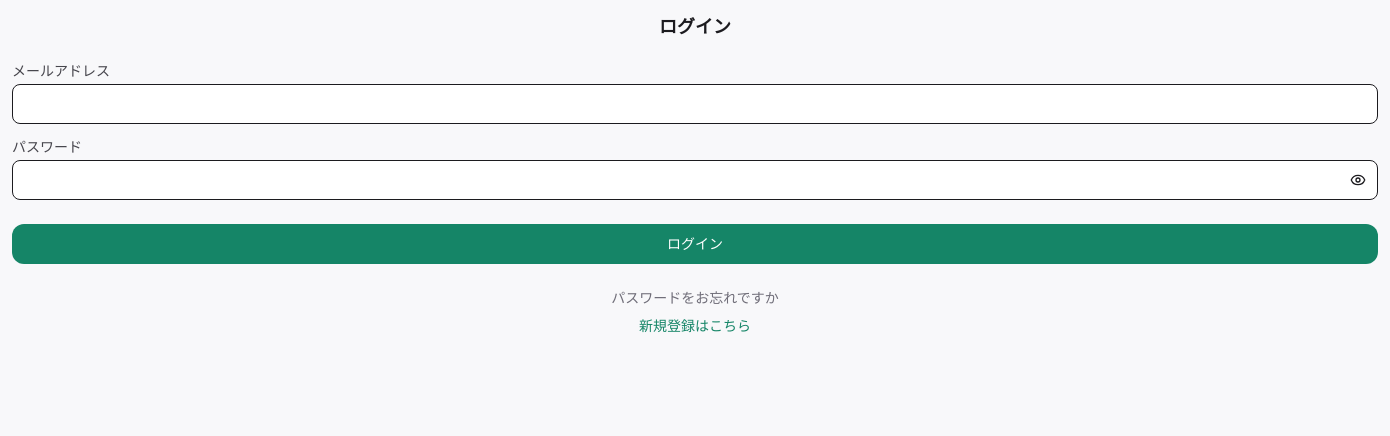
LoginPage › shows the backend's generic credential error without exposing which field is wrong
This screenshot has width=1390, height=436.
Type "satsuki@example.com" into the field labelled "メールアドレス".
click(695, 104); type("satsuki@example.com")  # box [12,84,1378,124]
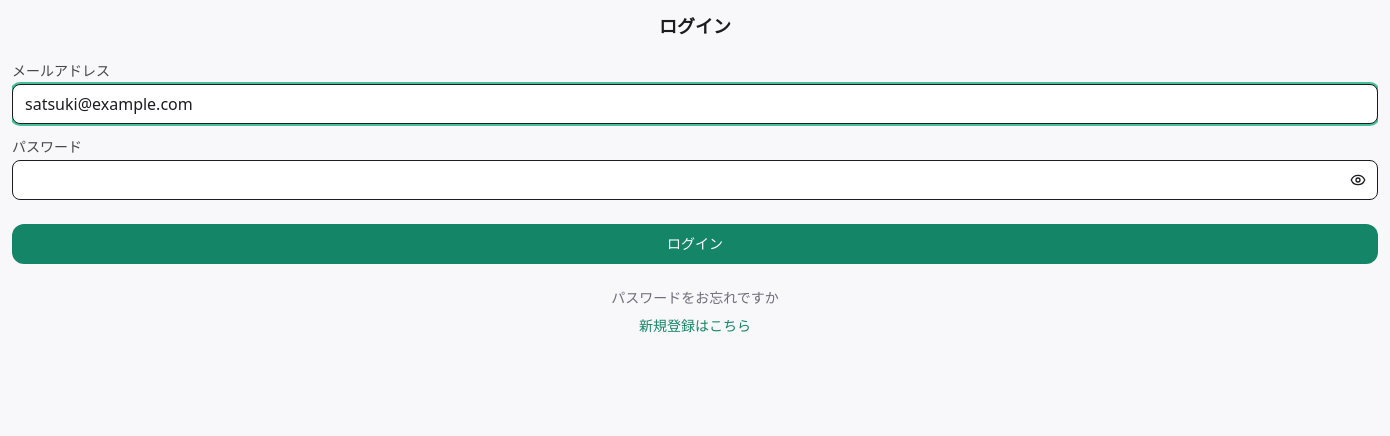
Type "wrong-password" into the password field labelled "パスワード".
click(695, 180); type("wrong-password")  # box [12,160,1378,200]
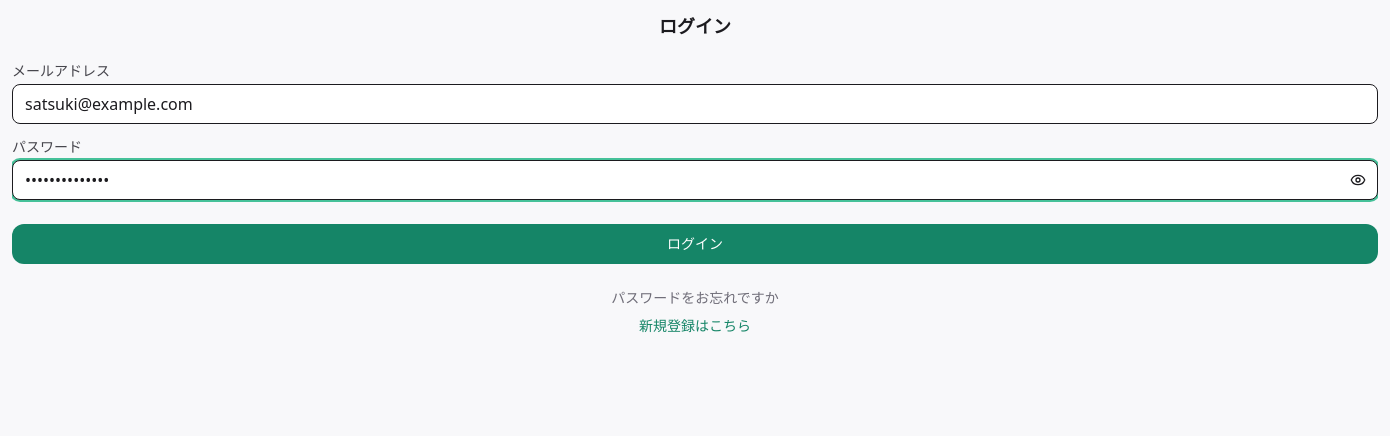
Click the button "ログイン".
click(695, 244)  # box [12,224,1378,264]
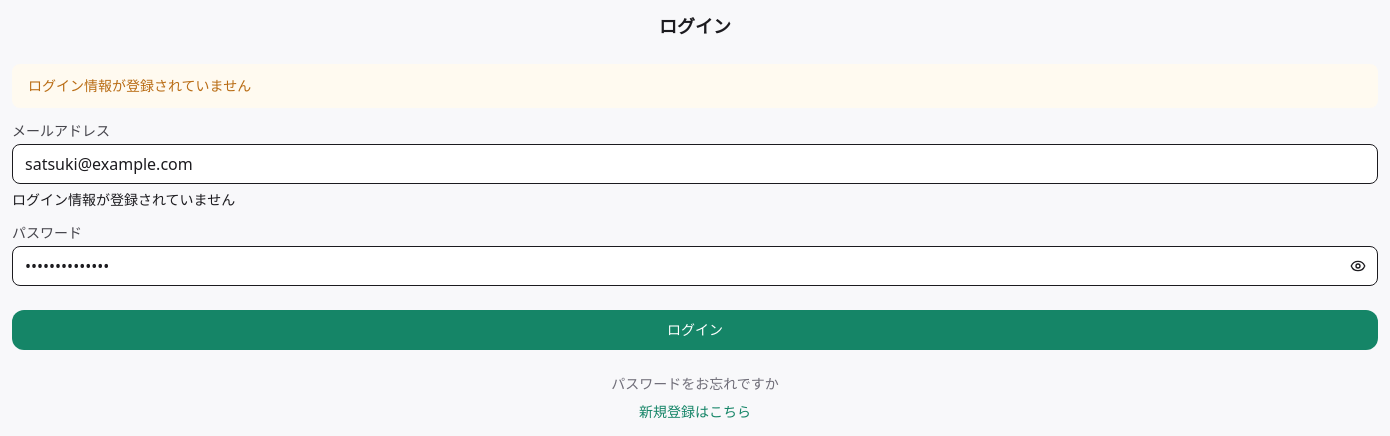
Check: the 1st text "ログイン情報が登録されていません" is shown, box [12,64,1378,108]
